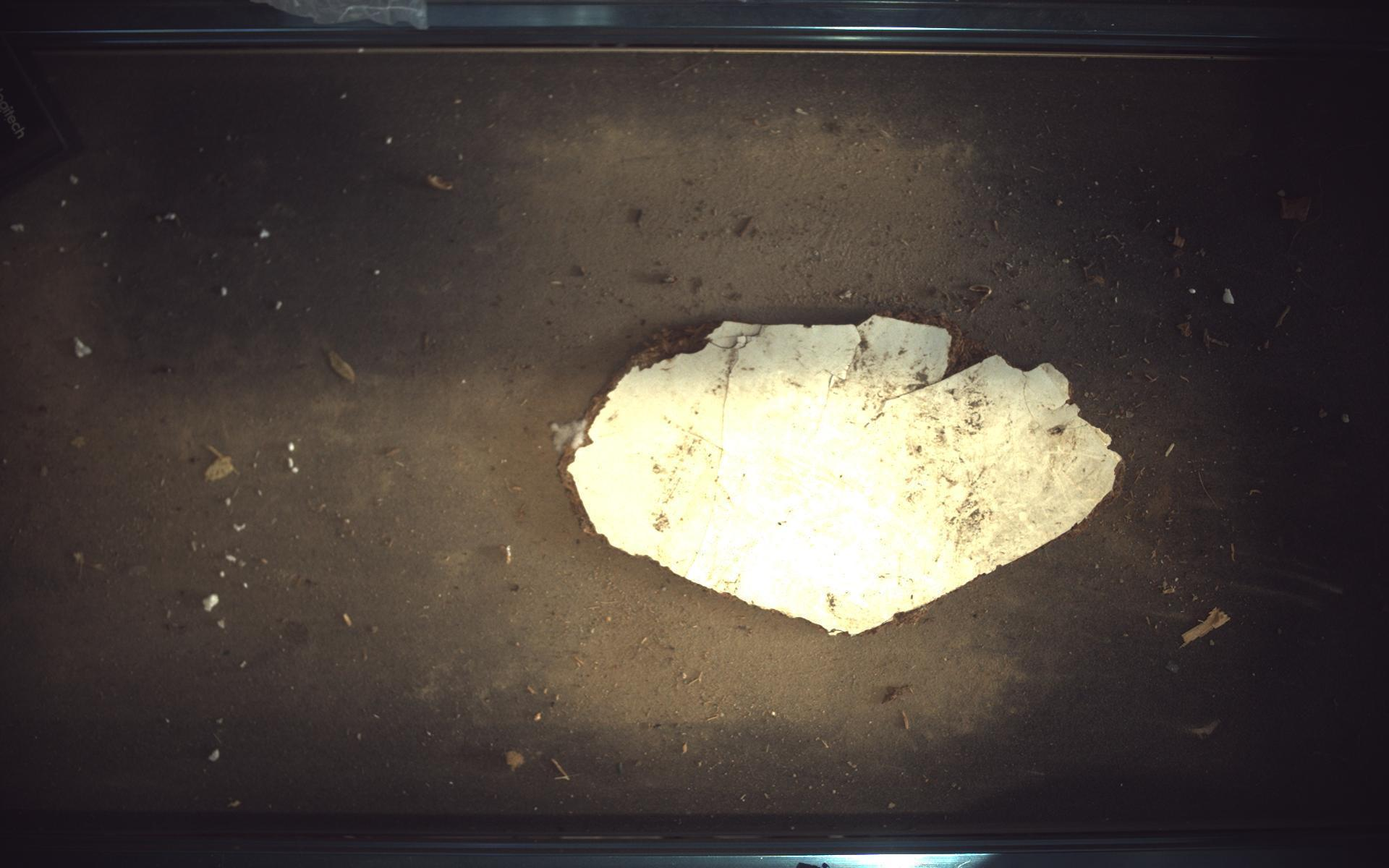wood: (568, 315, 1122, 635)
